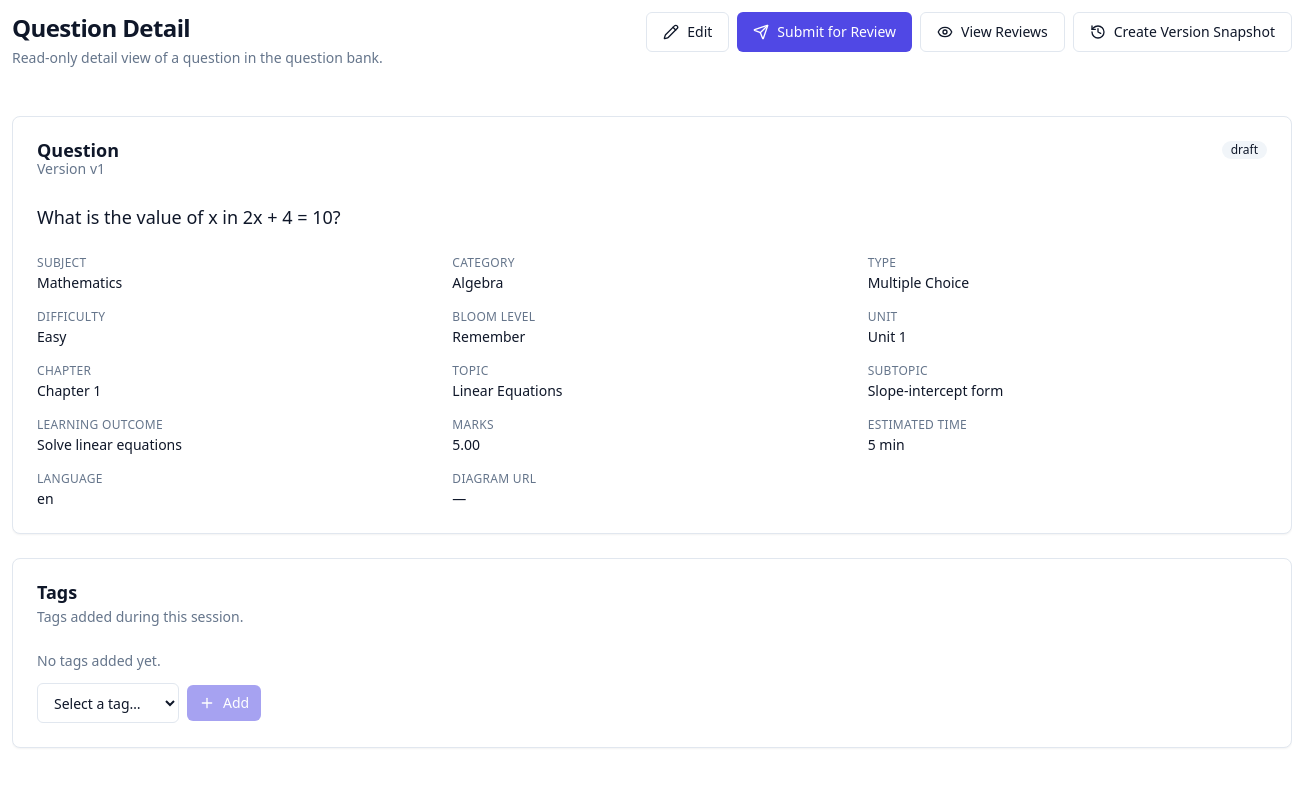
Test: QuestionViewerPage › removes a previously-added tag
The width and height of the screenshot is (1304, 812).
Expected: the text "What is the value of x in 2x + 4 = 10?" is shown, [37, 205, 341, 229]
Select "Algebra Basics" in the dropdown named "Select tag to add" at (108, 703), box [37, 683, 179, 723]
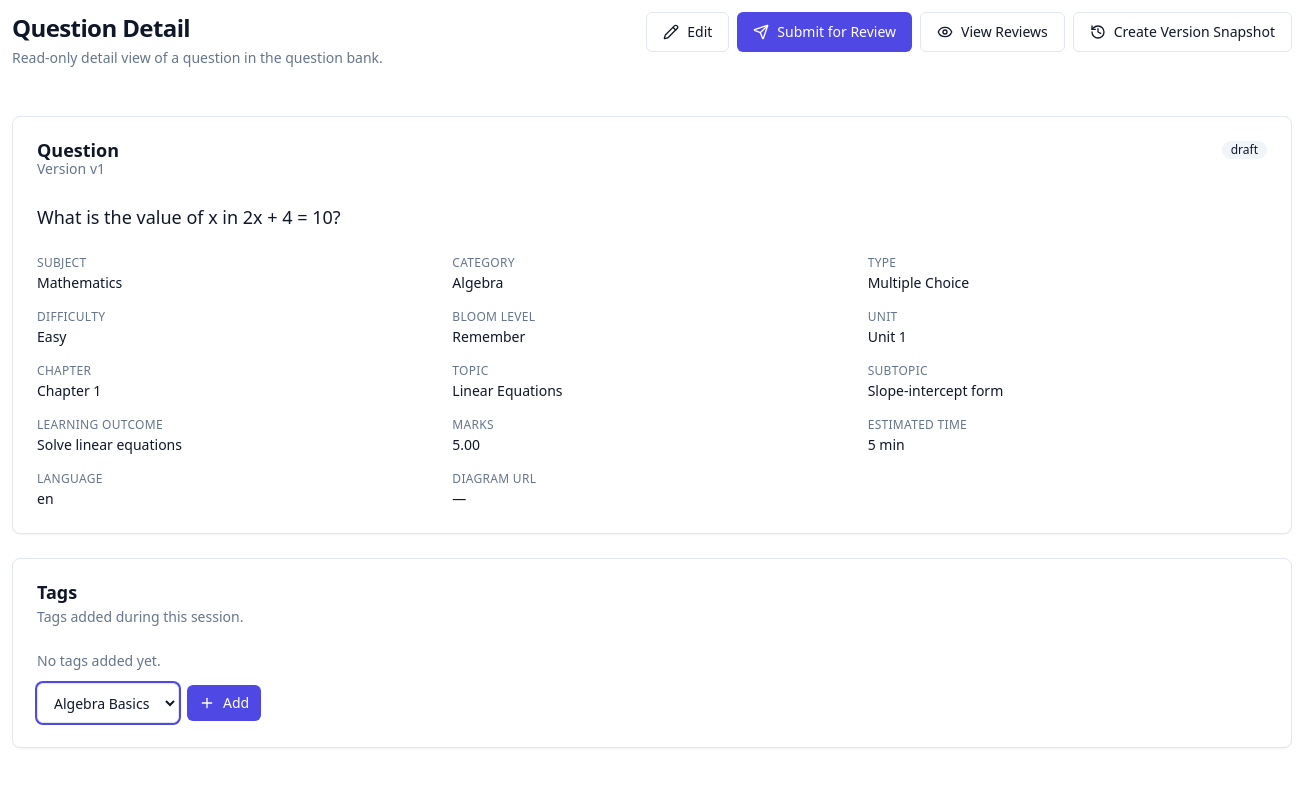
Click the button "Add" at (224, 703), box [187, 685, 261, 721]
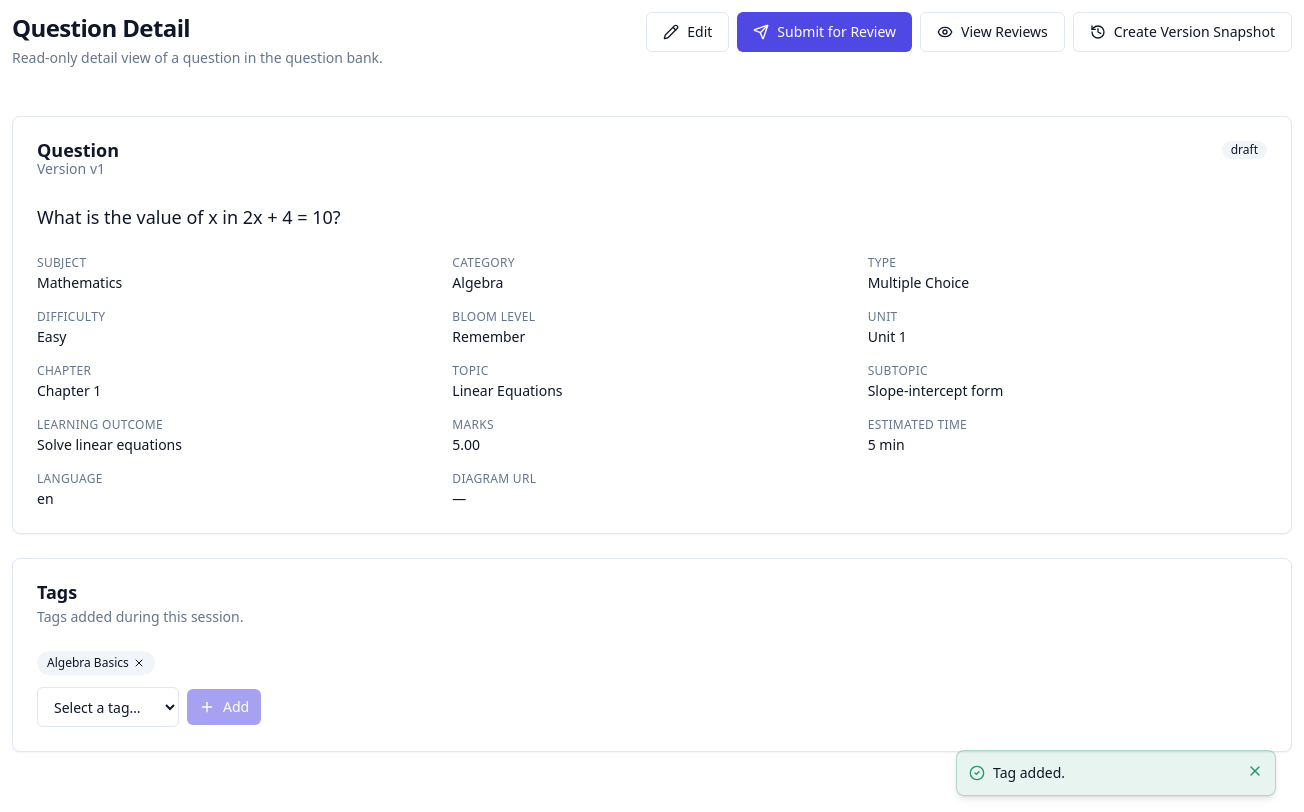
Result: the button named "Remove tag Algebra Basics" is shown
Click the button named "Remove tag Algebra Basics" at (139, 663), box [133, 657, 145, 669]
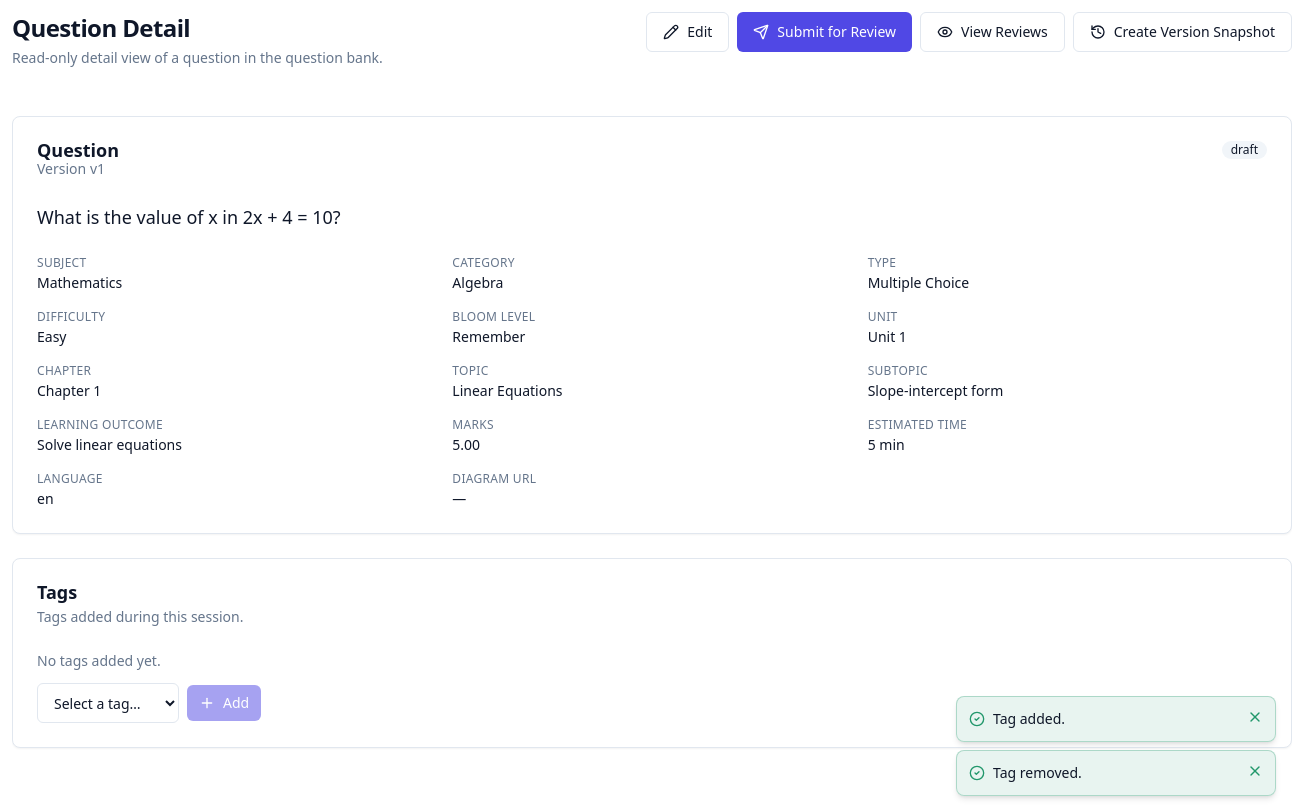
Result: the text "No tags added yet." is shown at [37, 651, 161, 671]
